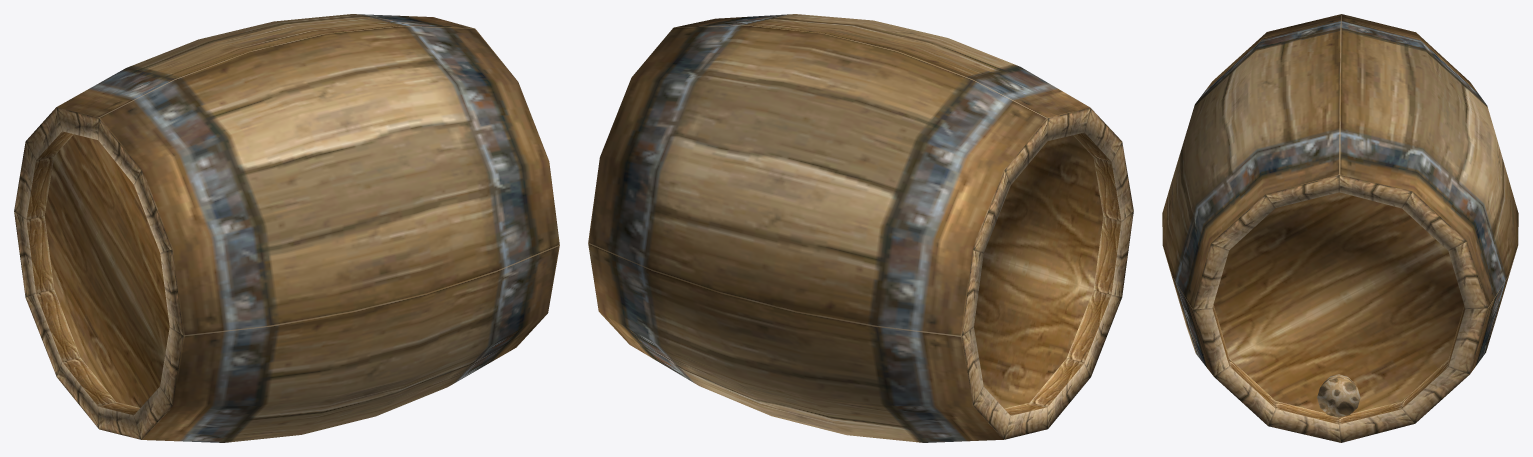
File: beerkeg02.obj
The picture shows the model from 3 angles, left to right: view 1: azimuth 30°, elevation 25°; view 2: azimuth 150°, elevation 25°; view 3: azimuth 270°, elevation 25°; orthographic projection. The views are drawn at different scales.
Visible parts, largest first — view 1: beerkeg02; view 2: beerkeg02; view 3: beerkeg02.
Part boxes in pixels (x1=…): beerkeg02: x1=14, y1=14, x2=559, y2=442; beerkeg02: x1=588, y1=14, x2=1133, y2=442; beerkeg02: x1=1162, y1=14, x2=1518, y2=442.
Size of the model in its own units: 1.35 by 1.27 by 1.27.
Materials: 1 (1 with a texture image).
